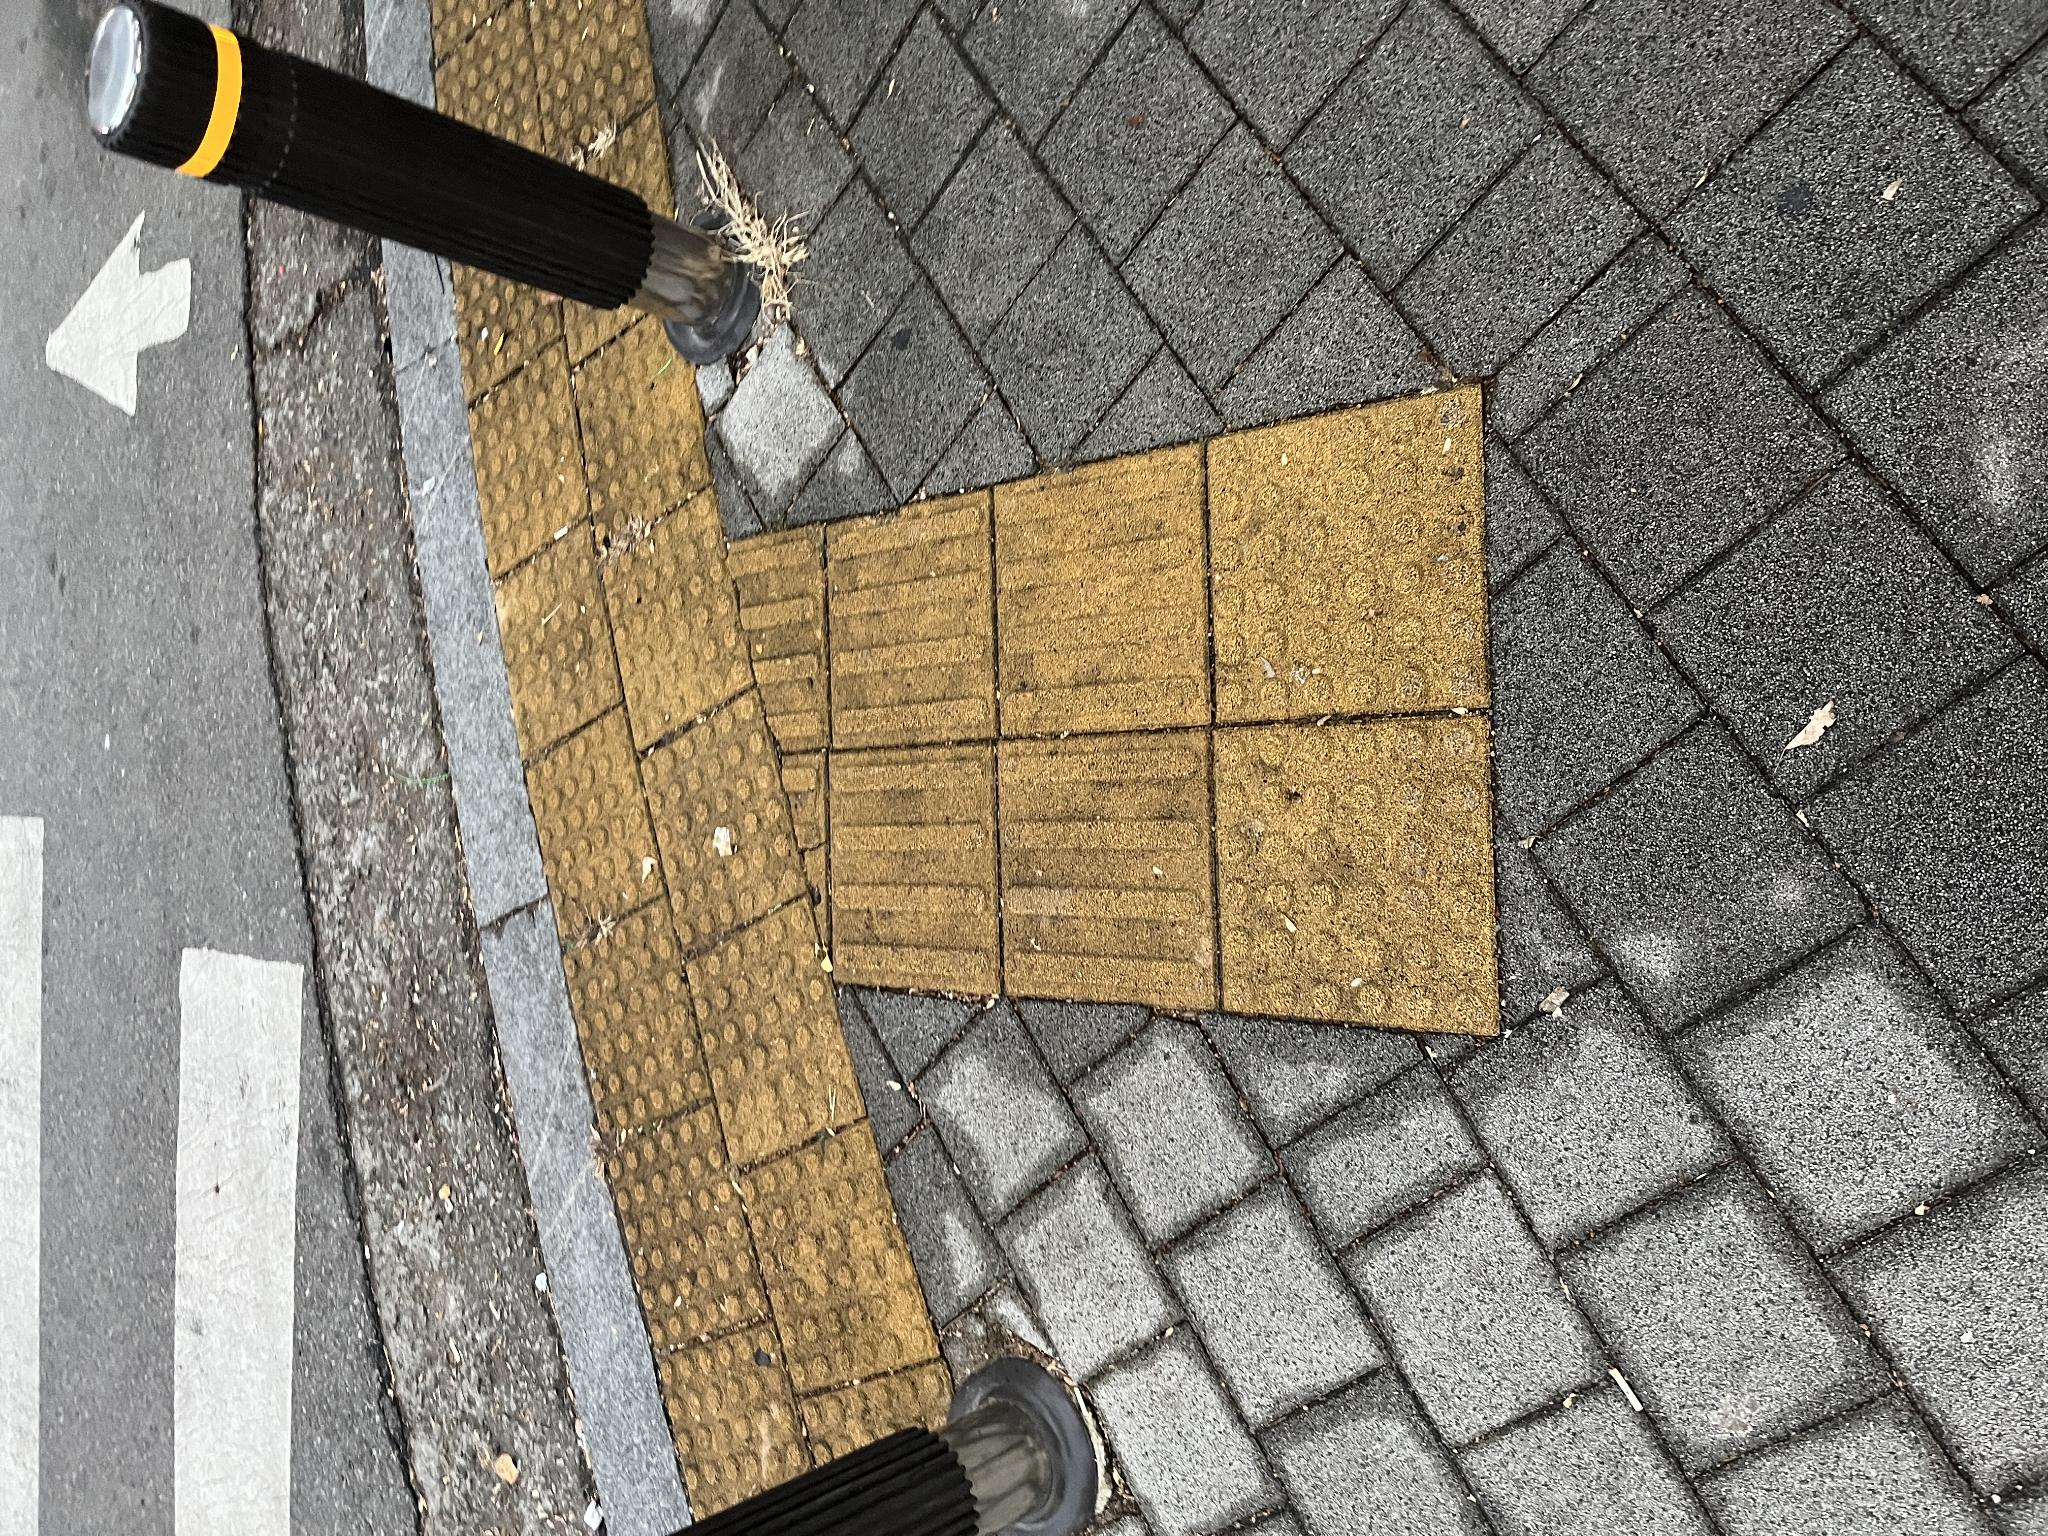Stop block normal: (526, 1226, 806, 1484), (824, 1215, 1108, 1468), (373, 686, 639, 863), (587, 642, 845, 802), (789, 600, 1047, 749)
Straight block normal: (529, 1000, 803, 1212), (810, 1002, 1056, 1197), (555, 833, 784, 989), (795, 833, 1016, 989)
